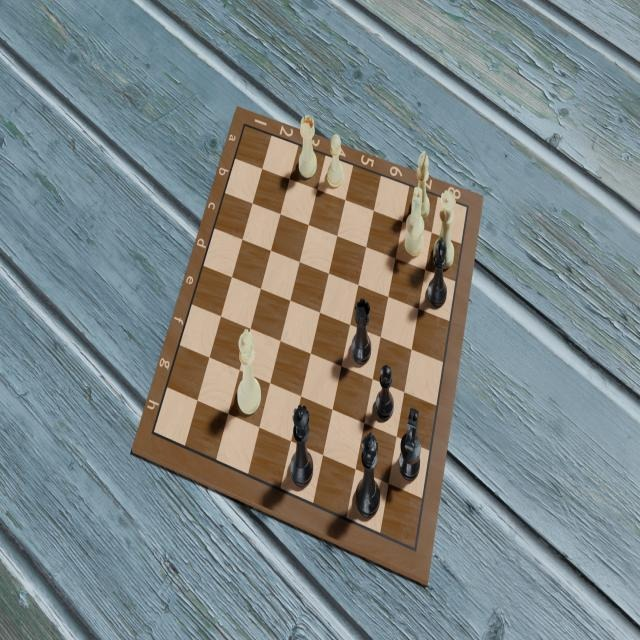black-bishop: (428, 236, 448, 308)
black-king: (354, 431, 382, 521)
black-knight: (397, 405, 422, 483)
black-pawn: (373, 363, 395, 421)
black-queen: (290, 403, 314, 486)
black-rook: (351, 297, 373, 367)
white-bishop: (413, 149, 431, 220)
white-king: (235, 328, 260, 416)
white-knight: (403, 185, 424, 259)
white-pawn: (324, 134, 345, 190)
white-queen: (432, 187, 456, 270)
white-rook: (298, 113, 318, 179)
